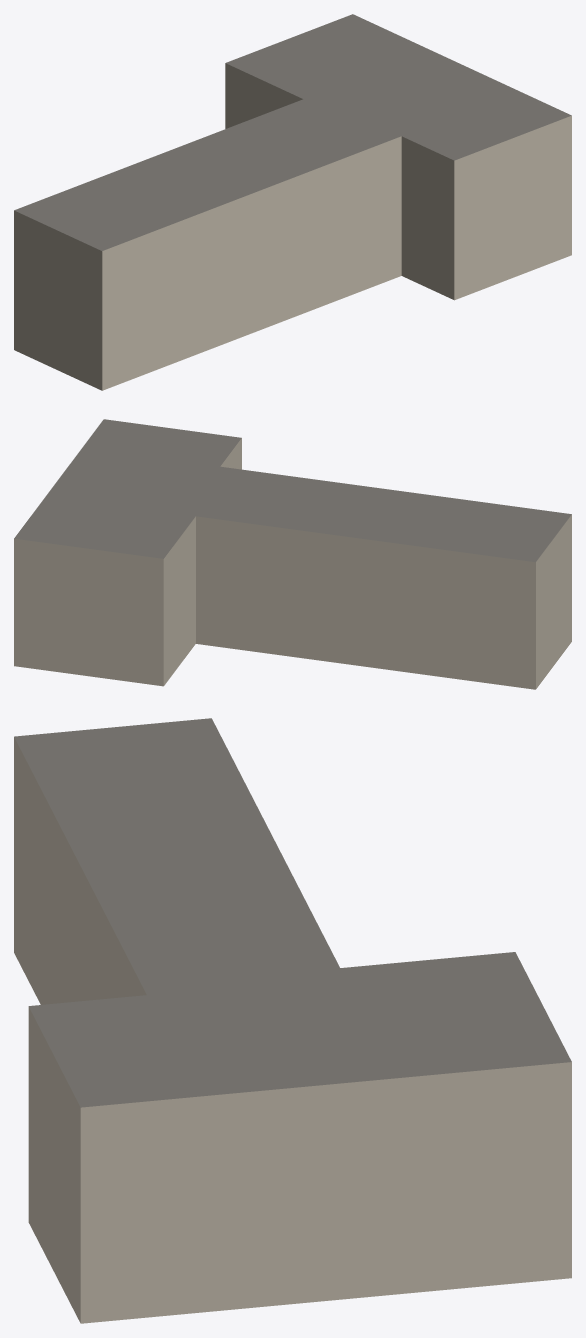
The picture shows the model from 3 angles, top to bottom: view 1: azimuth 30°, elevation 25°; view 2: azimuth 150°, elevation 25°; view 3: azimuth 270°, elevation 25°; orthographic projection. The views are drawn at different scales.
Visible parts, largest first — view 1: HP-w299010098; view 2: HP-w299010098; view 3: HP-w299010098.
Part boxes in pixels (x1,y1,x2,y2): HP-w299010098: (14, 14, 571, 390); HP-w299010098: (14, 419, 571, 689); HP-w299010098: (14, 718, 571, 1323).
Size of the model in its own units: 69.54 by 18 by 42.11.
